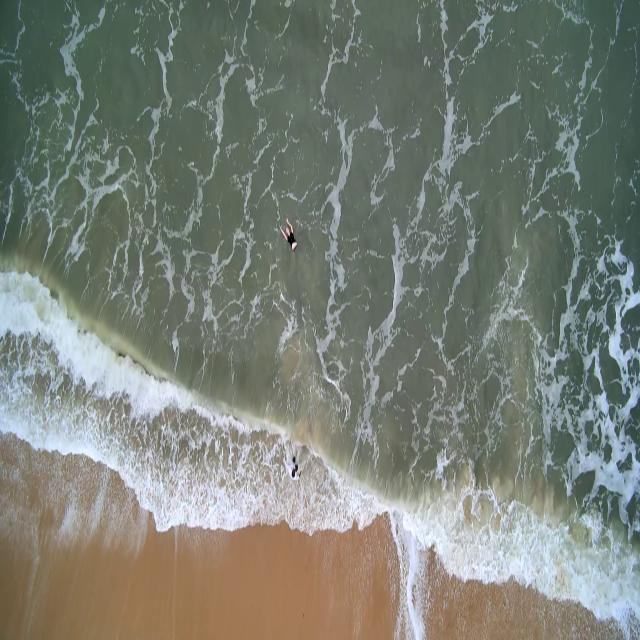dummy: (279, 219, 297, 252)
